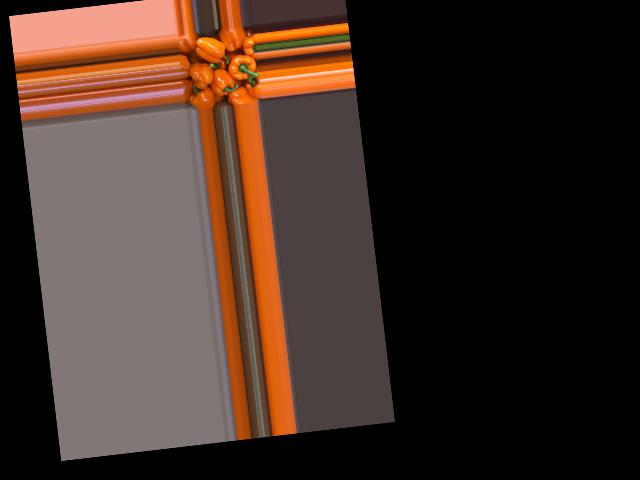bell_pepper: (180, 72, 200, 104)
